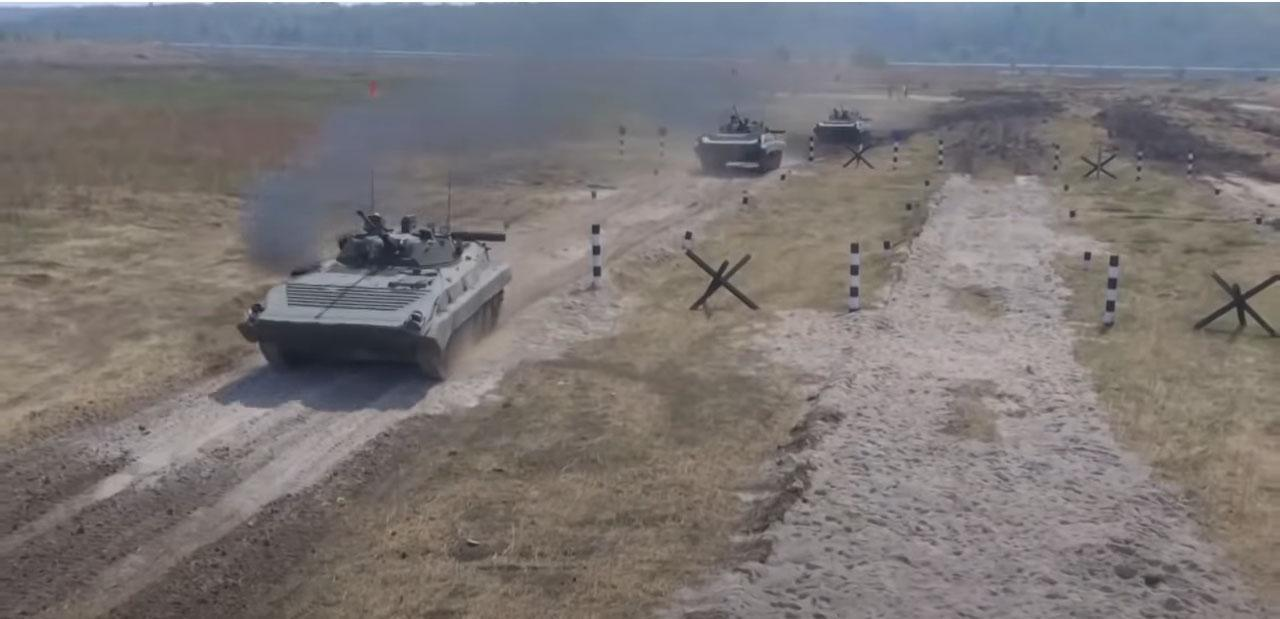tank: (235, 205, 520, 385), (695, 112, 789, 175), (811, 100, 874, 152)
